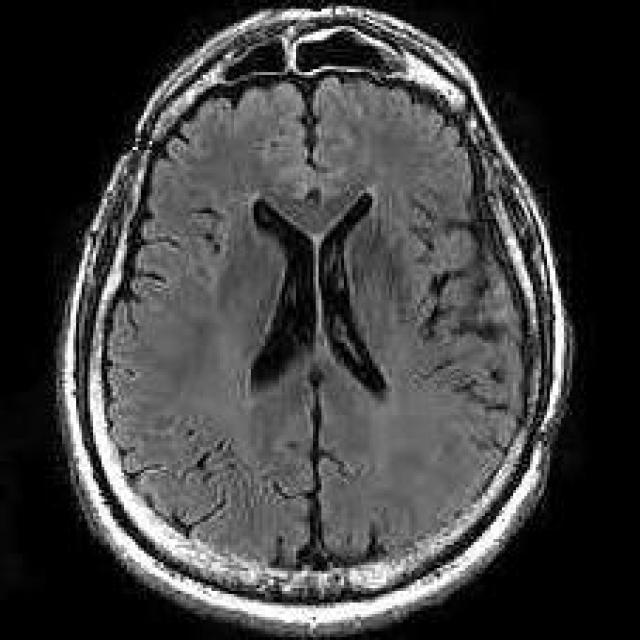notumor: (56, 6, 575, 637)
